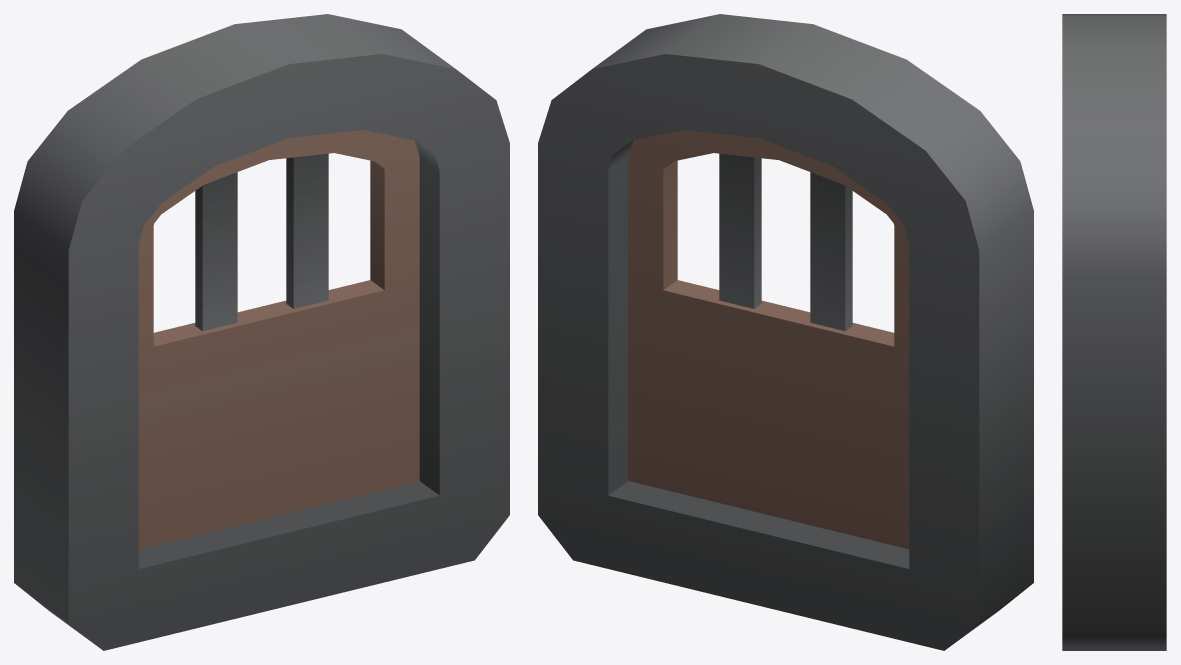
The model's file is crypt-large-door.glb.
3 renders of one model, left to right at view 1: azimuth 30°, elevation 25°; view 2: azimuth 150°, elevation 25°; view 3: azimuth 270°, elevation 25°, orthographic. The views are drawn at different scales.
Visible parts, largest first — view 1: door; view 2: door; view 3: door.
Boxes of the visible parts, x1,y1,x2,y2 form: door: (14, 14, 509, 650); door: (538, 14, 1033, 650); door: (1062, 14, 1166, 650).
Bounding box in the file's own units: 1.51 × 1.77 × 0.324.
1 material, 1 textured.
